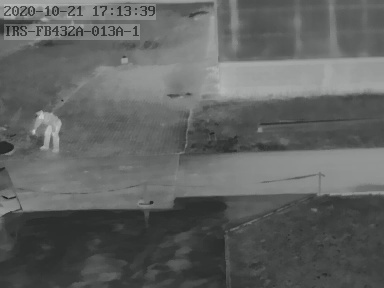person: (32, 108, 61, 152)
